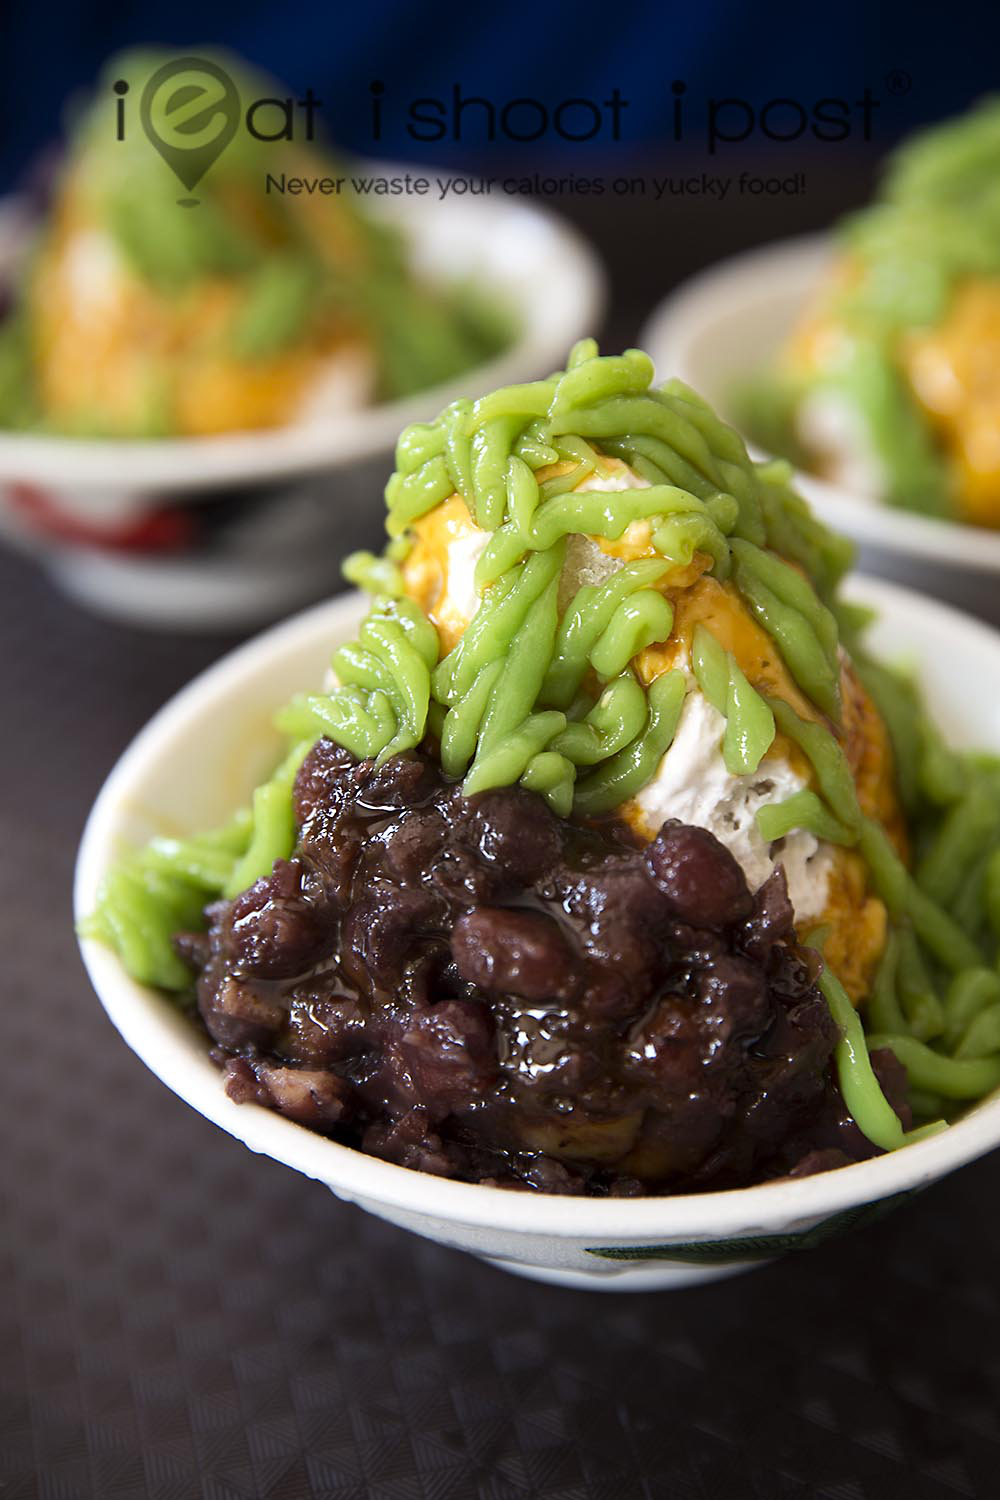Chendol: (150, 436, 988, 1268), (0, 97, 552, 448), (667, 44, 999, 499)
